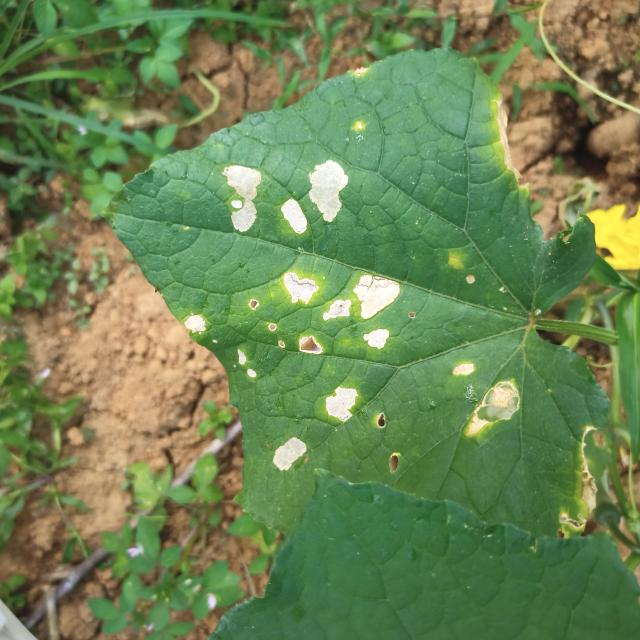disease_cucumber: (282, 270, 402, 357), (451, 360, 522, 438), (280, 158, 349, 235), (222, 164, 260, 233), (323, 386, 359, 423), (272, 437, 308, 472), (232, 346, 261, 379), (183, 313, 210, 337)
